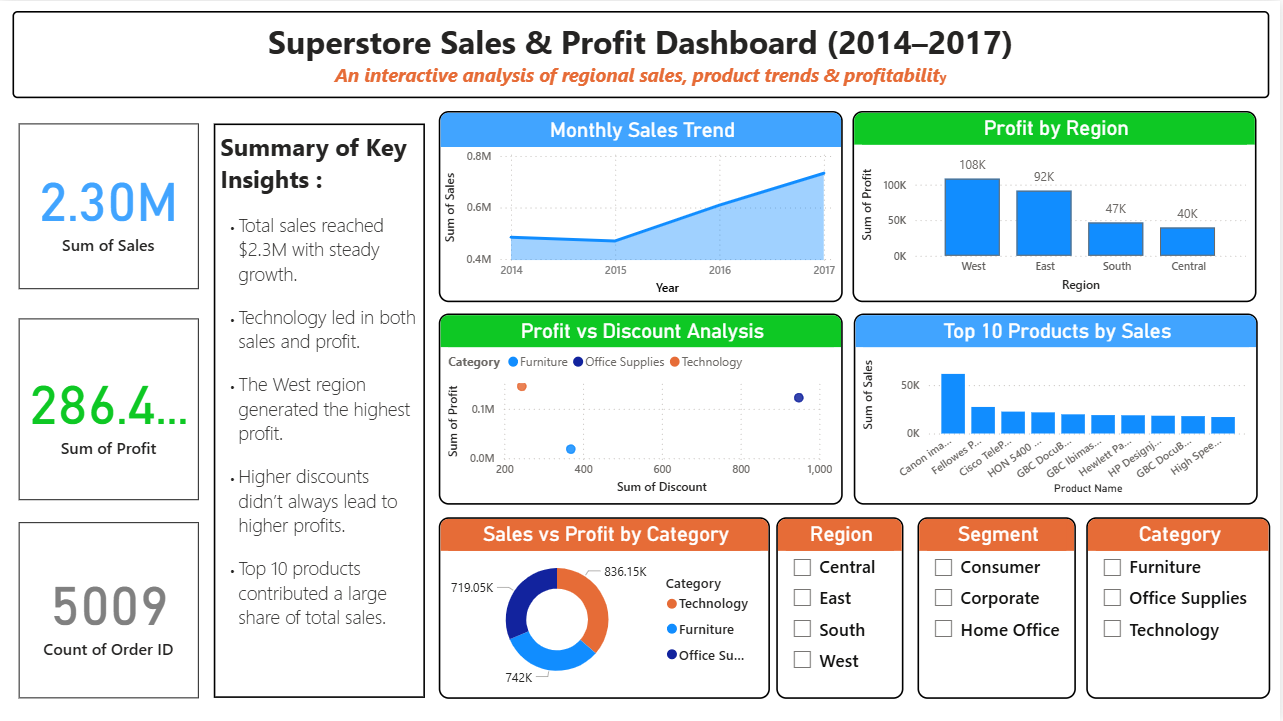

Layout of this report page (visuals, bound fields, positions):
{"tool":"powerbi","page":{"name":"Page 1","canvas":[1280,720],"ordinal":0},"visuals":[{"type":"columnChart","title":"Profit by Region","fields":{"Category":["Orders.Region"],"Y":["Sum(Orders.Profit)"]},"box":[852.9,110,404.3,191.4],"z":0},{"type":"areaChart","title":"Monthly Sales Trend","fields":{"Category":["Orders.Order Date.Variation.Date Hierarchy.Year","Orders.Order Date.Variation.Date Hierarchy.Month"],"Y":["Sum(Orders.Sales)"]},"box":[438.6,110,404.3,191.4],"z":1000},{"type":"donutChart","title":"Sales vs Profit by Category","fields":{"Category":["Orders.Category"],"Y":["Sum(Orders.Sales)"]},"box":[438.6,515.7,331.4,181.4],"z":2000},{"type":"clusteredColumnChart","title":"Top 10 Products by Sales","fields":{"Category":["Orders.Product Name"],"Y":["Sum(Orders.Sales)"]},"box":[854.3,312.9,404,191.4],"z":3000},{"type":"scatterChart","title":"Profit vs Discount Analysis","fields":{"X":["Sum(Orders.Discount)"],"Y":["Sum(Orders.Profit)"],"Series":["Orders.Category"]},"box":[438.6,312.9,404.3,191.4],"z":4000},{"type":"slicer","title":"Region","fields":{"Values":["Orders.Region"]},"box":[775.7,515.7,127.1,181.4],"z":5000},{"type":"textbox","box":[12.9,10,1257.1,87.1],"z":6000},{"type":"slicer","title":"Segment","fields":{"Values":["Orders.Segment"]},"box":[917.1,515.7,158.6,181.4],"z":7000},{"type":"slicer","title":"Category","fields":{"Values":["Orders.Category"]},"box":[1085.7,515.7,184.3,181.4],"z":8000},{"type":"card","fields":{"Values":["Sum(Orders.Sales)"]},"box":[18.6,122.9,180,165.7],"z":9000},{"type":"card","fields":{"Values":["Sum(Orders.Profit)"]},"box":[18.6,317.1,180,181.4],"z":10000},{"type":"card","fields":{"Values":["Count(Orders.Order ID)"]},"box":[18.6,521.4,180,175.7],"z":11000},{"type":"textbox","box":[214.3,122.9,211.4,574.3],"z":12000}]}

Visuals, with their boxes in screenshot pixels (x1, y1, x2, y2), scaled from the page's 1280x720 canvas onto the 1283x721 screenshot:
"Profit by Region" columnChart: [855,110,1260,302]
"Monthly Sales Trend" areaChart: [440,110,845,302]
"Sales vs Profit by Category" donutChart: [440,516,772,698]
"Top 10 Products by Sales" clusteredColumnChart: [856,313,1261,505]
"Profit vs Discount Analysis" scatterChart: [440,313,845,505]
"Region" slicer: [778,516,905,698]
textbox: [13,10,1273,97]
"Segment" slicer: [919,516,1078,698]
"Category" slicer: [1088,516,1273,698]
card - Sum(Orders.Sales): [19,123,199,289]
card - Sum(Orders.Profit): [19,318,199,499]
card - Count(Orders.Order ID): [19,522,199,698]
textbox: [215,123,427,698]
